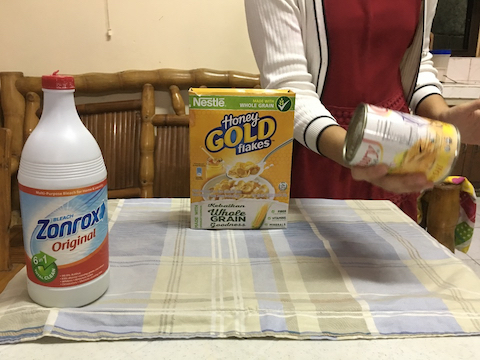bottle: (19, 71, 113, 310)
box: (185, 86, 299, 233)
can: (341, 103, 463, 184)
grab: (349, 160, 440, 194)
